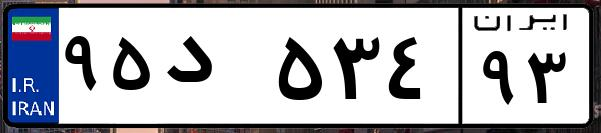3: (330, 28, 385, 110), (525, 38, 570, 115)
4: (385, 28, 445, 110)
5: (270, 28, 330, 110), (110, 28, 158, 98)
9: (57, 26, 110, 100), (475, 38, 525, 113)
د: (158, 20, 270, 120)
